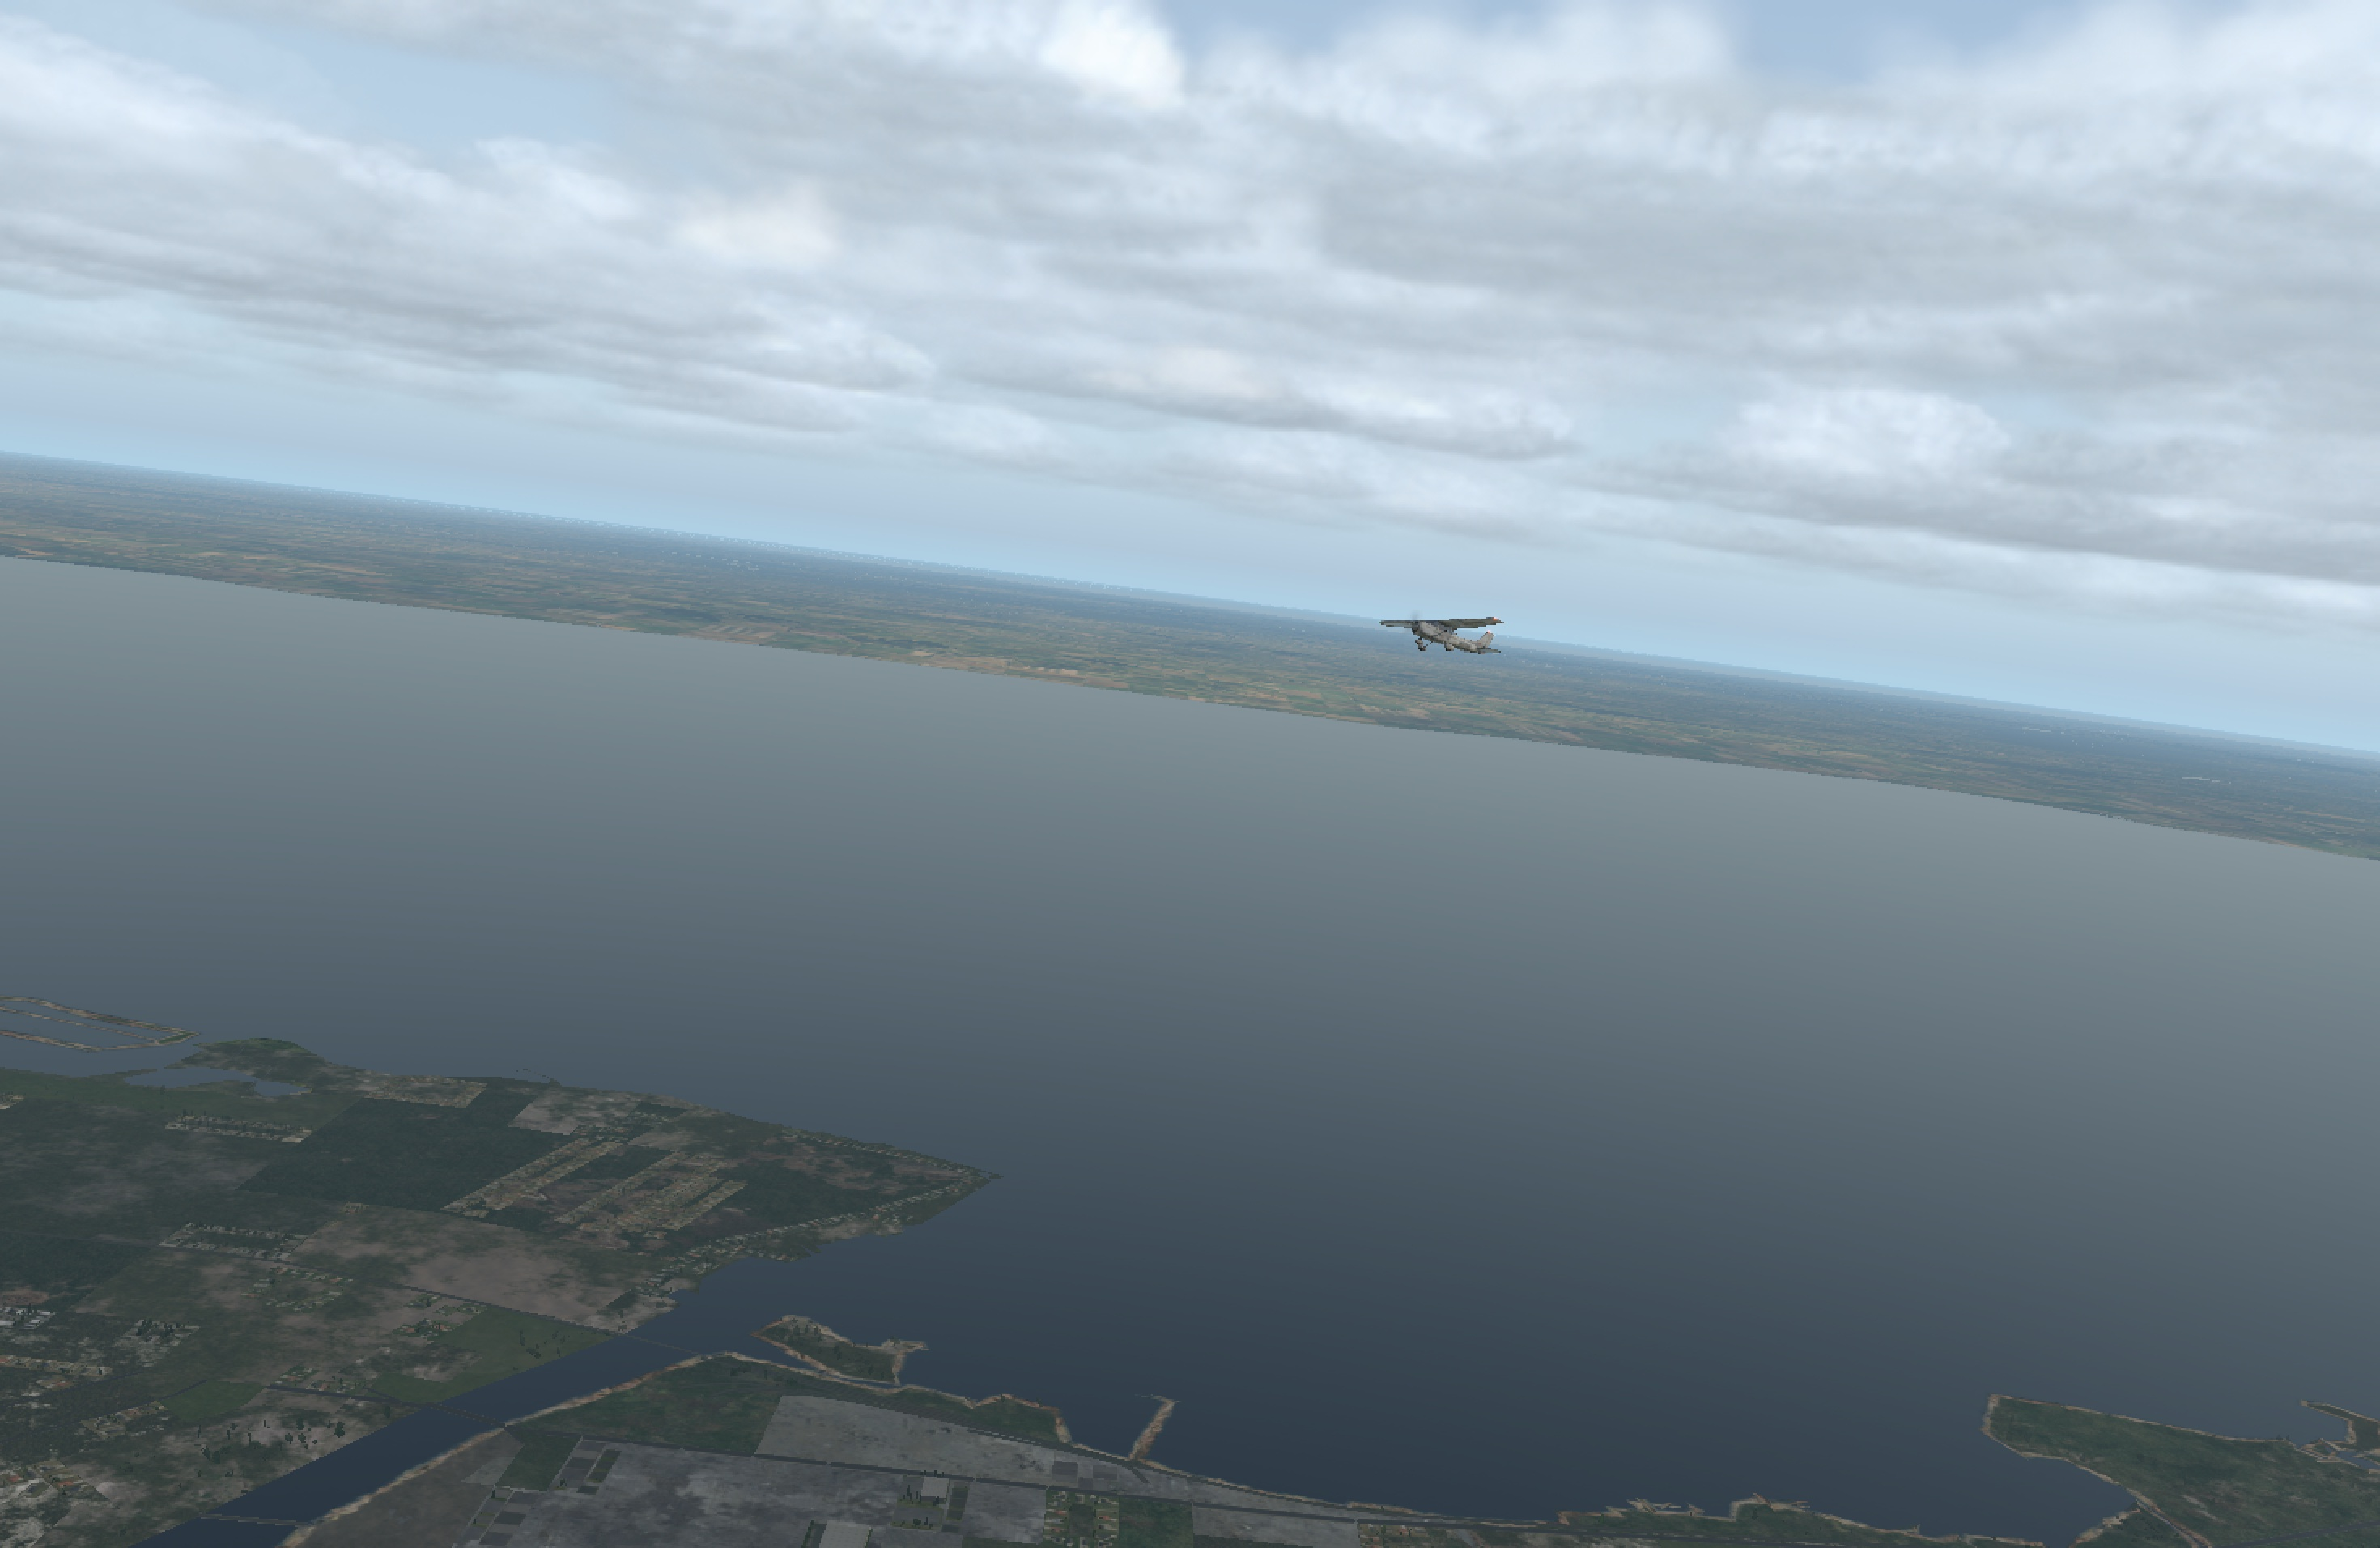aircraft: (1377, 609, 1492, 653)
